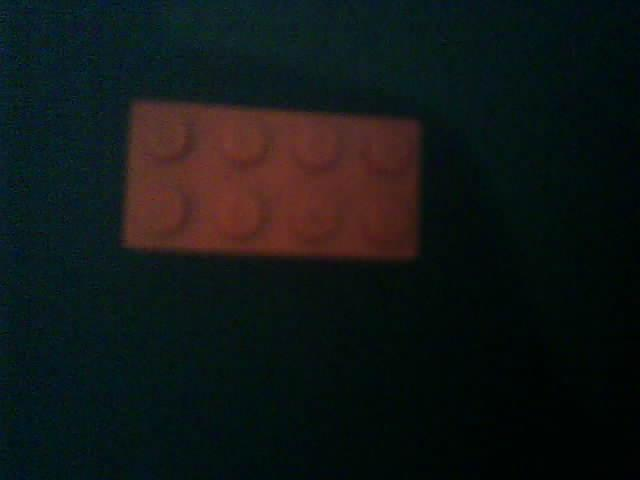lego: (119, 100, 419, 263)
